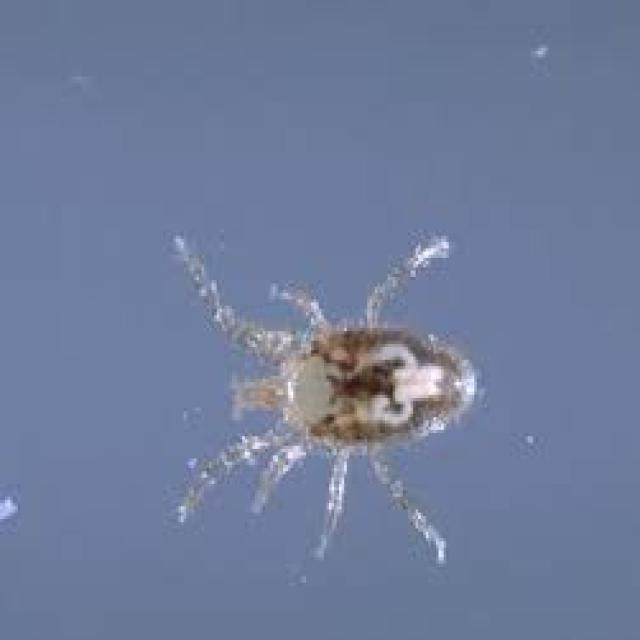Mites: (140, 208, 538, 584)
